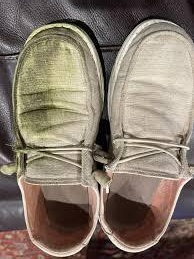earth: (20, 47, 55, 133)
